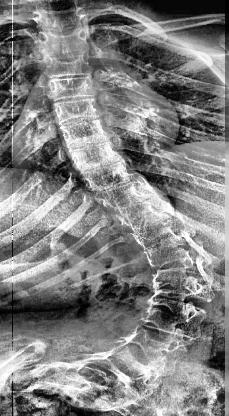Vertebrae: (66, 353, 146, 405), (112, 327, 192, 371), (129, 294, 209, 336), (142, 231, 222, 271), (142, 268, 224, 302), (125, 204, 191, 238), (57, 139, 126, 169), (80, 159, 140, 187), (30, 6, 94, 30), (39, 77, 105, 99), (104, 176, 158, 202), (34, 31, 92, 53), (36, 55, 97, 75), (48, 122, 114, 140), (50, 102, 108, 118)
